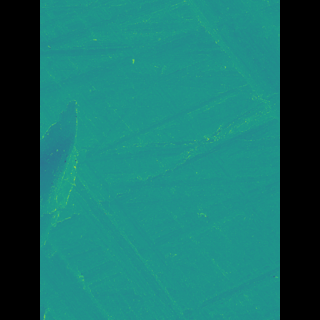Loch: (97, 126, 198, 320), (179, 0, 248, 121), (69, 98, 100, 257)
